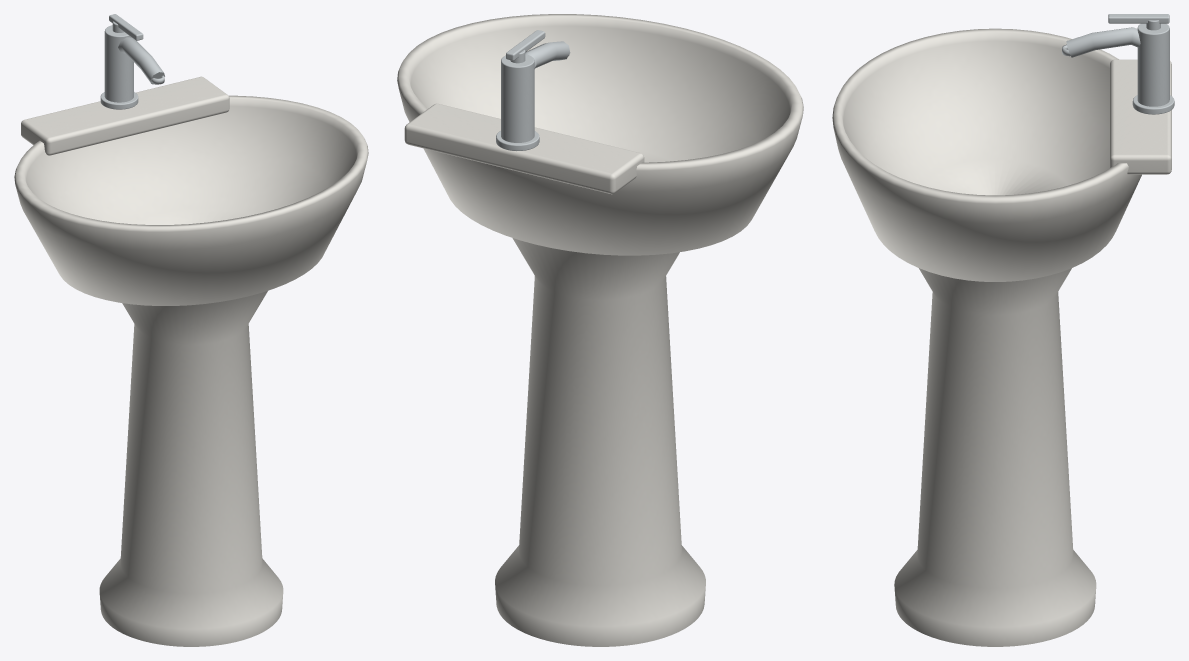
3 views of the same model, side by side, from view 1: azimuth 30°, elevation 25°; view 2: azimuth 150°, elevation 25°; view 3: azimuth 270°, elevation 25° (orthographic). The views are drawn at different scales.
Visible parts, largest first — view 1: Pedestal | basin, Pedestal | sculpted ceramic column, Pedestal | rear deck, Mixer | cartridge body, Mixer | curved spout; view 2: Pedestal | basin, Pedestal | sculpted ceramic column, Pedestal | rear deck, Mixer | cartridge body, Mixer | curved spout; view 3: Pedestal | basin, Pedestal | sculpted ceramic column, Pedestal | rear deck, Mixer | cartridge body, Mixer | curved spout, Mixer | lifting lever.
Part boxes in pixels (<box>): Pedestal | basin: <box>14,95,368,305</box>; Pedestal | sculpted ceramic column: <box>99,291,283,646</box>; Pedestal | rear deck: <box>21,76,229,155</box>; Mixer | cartridge body: <box>104,25,133,102</box>; Mixer | curved spout: <box>118,37,164,84</box>; Pedestal | basin: <box>397,14,803,255</box>; Pedestal | sculpted ceramic column: <box>495,238,705,646</box>; Pedestal | rear deck: <box>404,103,644,194</box>; Mixer | cartridge body: <box>501,54,534,142</box>; Mixer | curved spout: <box>525,41,570,68</box>; Pedestal | basin: <box>832,28,1141,281</box>; Pedestal | sculpted ceramic column: <box>894,268,1096,646</box>; Pedestal | rear deck: <box>1110,59,1171,174</box>; Mixer | cartridge body: <box>1137,23,1169,106</box>; Mixer | curved spout: <box>1066,27,1140,57</box>; Mixer | lifting lever: <box>1108,14,1169,23</box>.
Size of the model in its own units: 0.606 by 0.9655 by 0.508.
2 materials, 2 textured.
